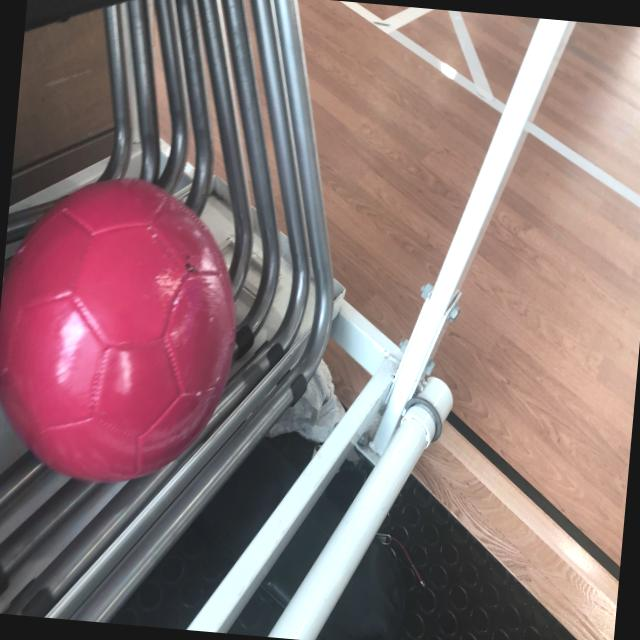red_ball: (0, 168, 248, 493)
